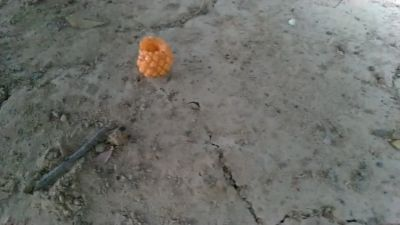eggs: (140, 35, 173, 77)
